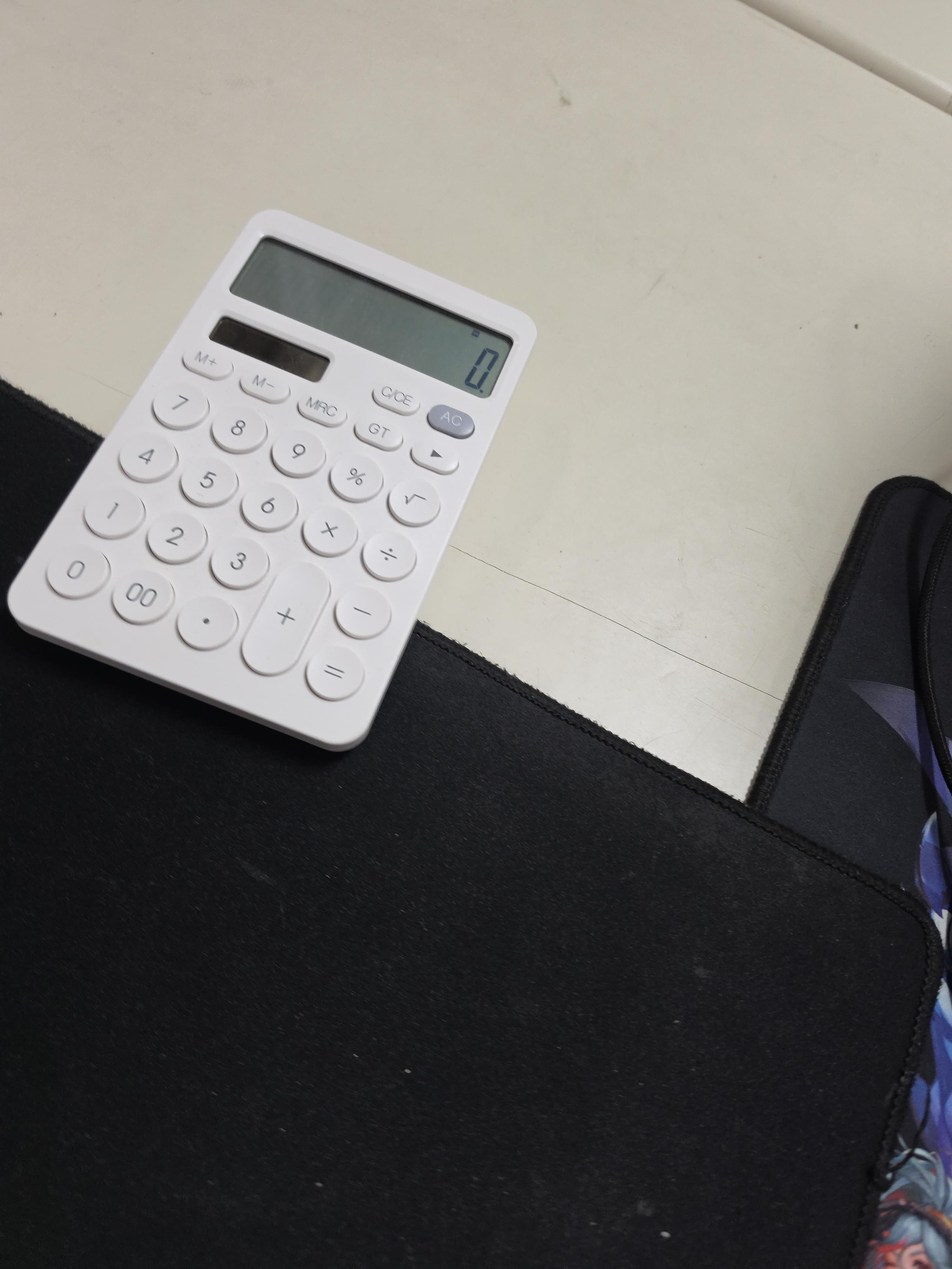calculator: (6, 209, 539, 752)
